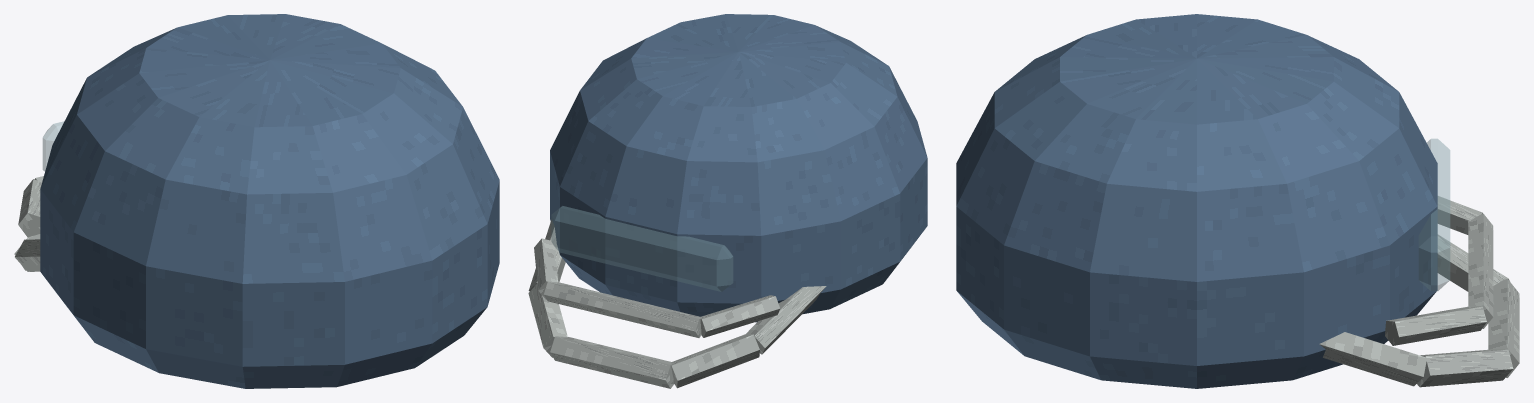
The model's file is helmet_football.glb.
3 renders of one model, left to right at view 1: azimuth 30°, elevation 25°; view 2: azimuth 150°, elevation 25°; view 3: azimuth 270°, elevation 25°, orthographic. The views are drawn at different scales.
Parts seen in each view (by area): view 1: block_helmet shell, block_upper cage bar 0, block_face guard 0, block_football visor; view 2: block_helmet shell, block_football visor, block_upper cage bar 1, block_face guard 2, block_face guard 1, block_face guard 0, block_upper cage bar 0, block_face guard 3, block_upper cage bar 2, block_face guard 4; view 3: block_helmet shell, block_football visor, block_face guard 4, block_face guard 3, block_upper cage bar 2, block_upper cage bar 1, block_face guard 2, block_face guard 1, block_upper cage bar 0.
Part boxes in pixels (x1,y1,x2,y2): block_helmet shell: (40, 14, 499, 388); block_upper cage bar 0: (18, 179, 41, 237); block_face guard 0: (15, 239, 40, 271); block_football visor: (42, 121, 63, 171); block_helmet shell: (550, 14, 927, 322); block_football visor: (551, 206, 733, 291); block_upper cage bar 1: (544, 281, 701, 337); block_face guard 2: (550, 336, 674, 388); block_face guard 1: (671, 334, 759, 388); block_face guard 0: (745, 286, 826, 354); block_upper cage bar 0: (700, 295, 780, 337); block_face guard 3: (528, 283, 567, 357); block_upper cage bar 2: (534, 238, 558, 299); block_face guard 4: (528, 219, 565, 291); block_helmet shell: (956, 14, 1437, 388); block_football visor: (1418, 138, 1450, 291); block_face guard 4: (1319, 332, 1426, 386); block_face guard 3: (1417, 349, 1513, 387); block_upper cage bar 2: (1385, 306, 1486, 345); block_upper cage bar 1: (1468, 214, 1493, 328); block_face guard 2: (1488, 279, 1519, 377); block_face guard 1: (1437, 234, 1509, 291); block_upper cage bar 0: (1437, 196, 1483, 234).
Bounding box in the file's own units: 0.2697 × 0.1842 × 0.3302.
Materials: 2 (2 with a texture image).
